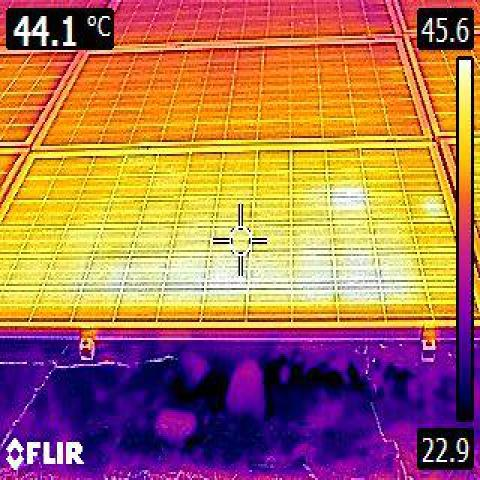fault: (253, 242, 418, 309), (335, 186, 369, 213), (424, 196, 444, 218)
